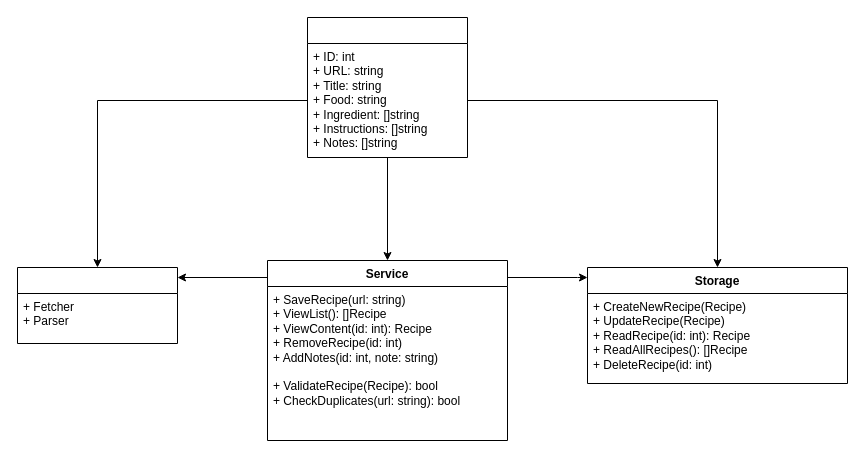
Some shapes in this 865 by 461 pixel diagram are drawn without their labels. The box of each missing label's shape, as (x1, y1, x2, y2) in pixels:
Infrastructure: (16, 266, 178, 344)
Recipe: (306, 16, 468, 158)
